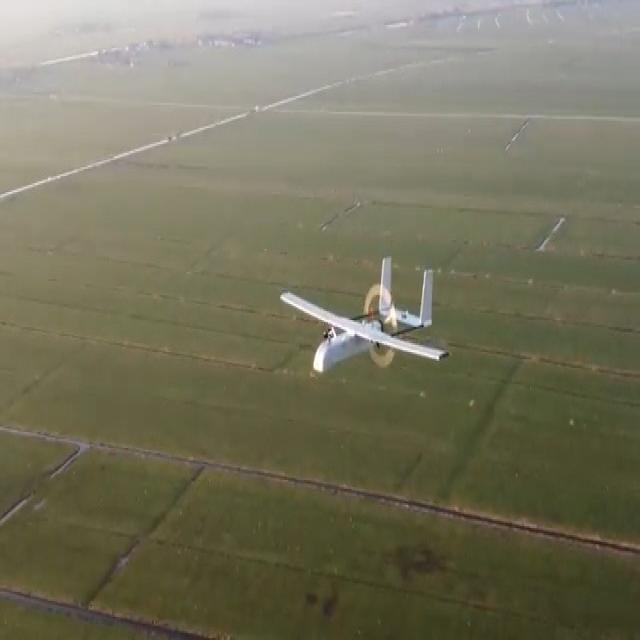drones: (271, 246, 448, 392)
